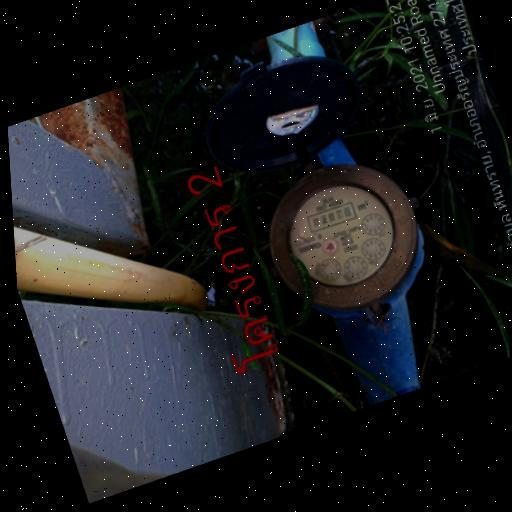0: (342, 206, 351, 216), (327, 211, 335, 221), (312, 217, 320, 226)
1: (334, 209, 343, 218)
4: (319, 214, 328, 224)
border_water_meter_number: (305, 200, 357, 234)
